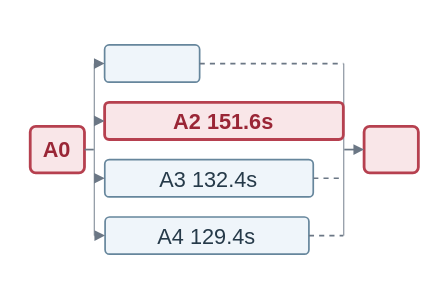
The diagram is 448 pixels wide and 299 high, and some of its shapes have lost their labels. Here are the shapes that lost their labels. From the top down, the centre of each, then its label:
At (151,62): "A1 60.4s".
At (390,148): "A5".
